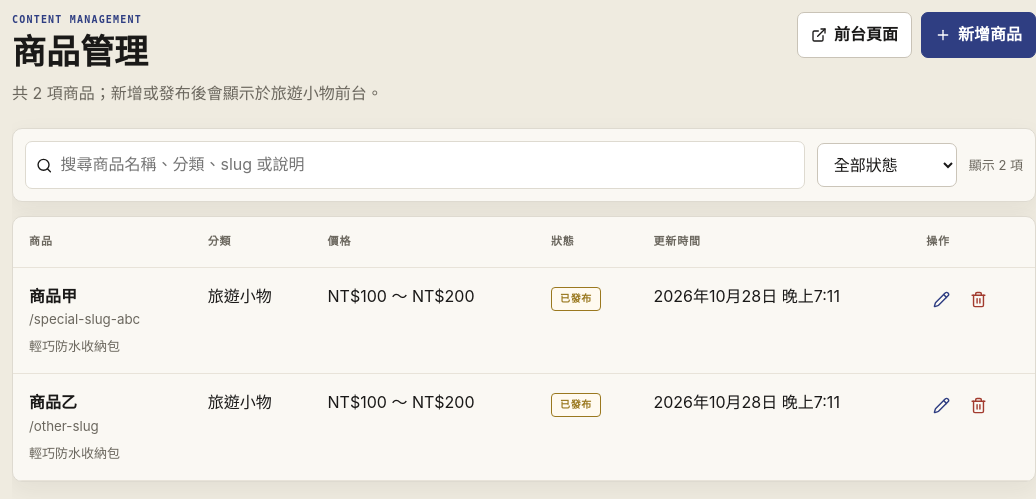
Test case: ProductListPage — listing and filtering › matches by slug when the keyword only appears in the slug
This screenshot has width=1036, height=499.
Expected: the text "商品甲" is shown, [29,286,77,306]
Type "special-slug" into the field with placeholder "搜尋商品名稱、分類、slug 或說明" at (427, 165), box [60,142,794,188]
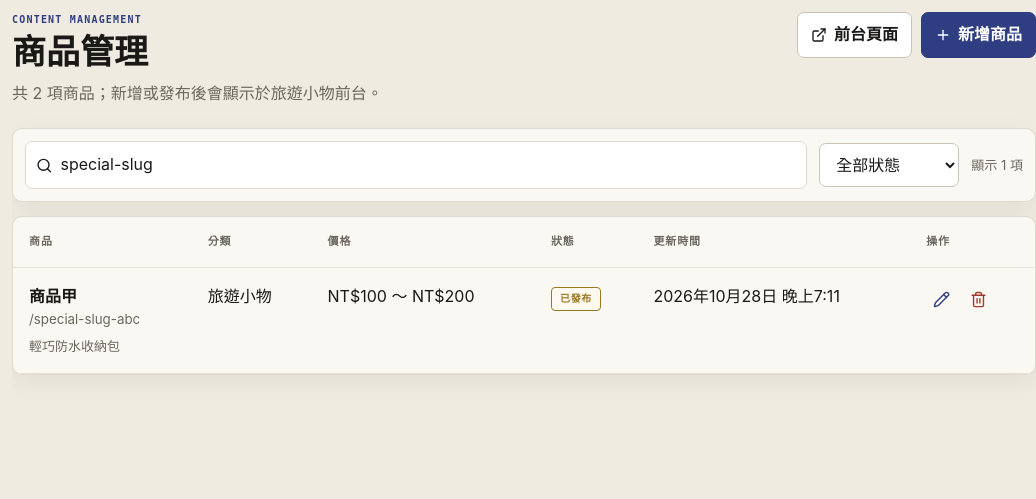
Expected: the text "商品甲" is shown, [29,286,77,306]
Now the text "商品乙" is gone
